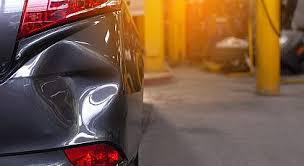dent: (22, 36, 130, 140)
